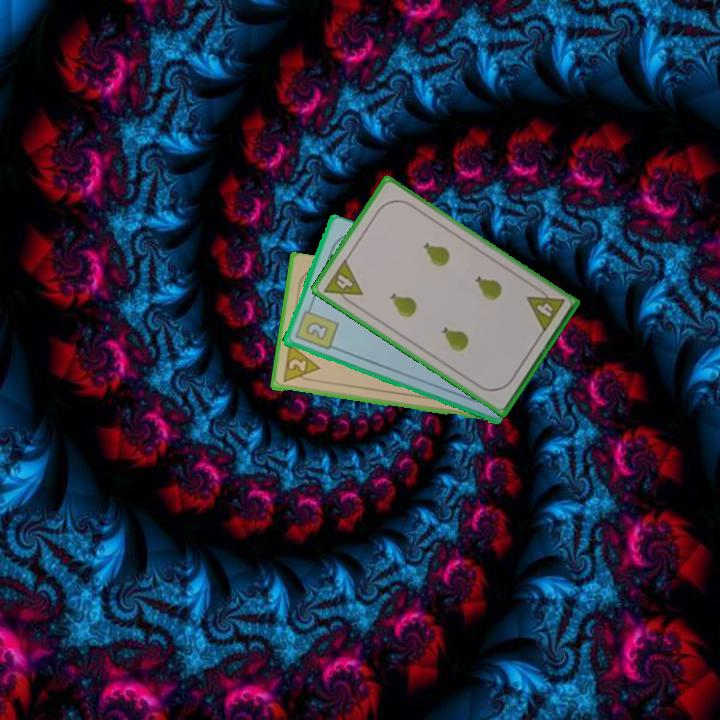2b: (291, 302, 341, 353)
2p: (279, 342, 322, 386)
4p: (320, 255, 366, 309), (523, 283, 567, 335)
